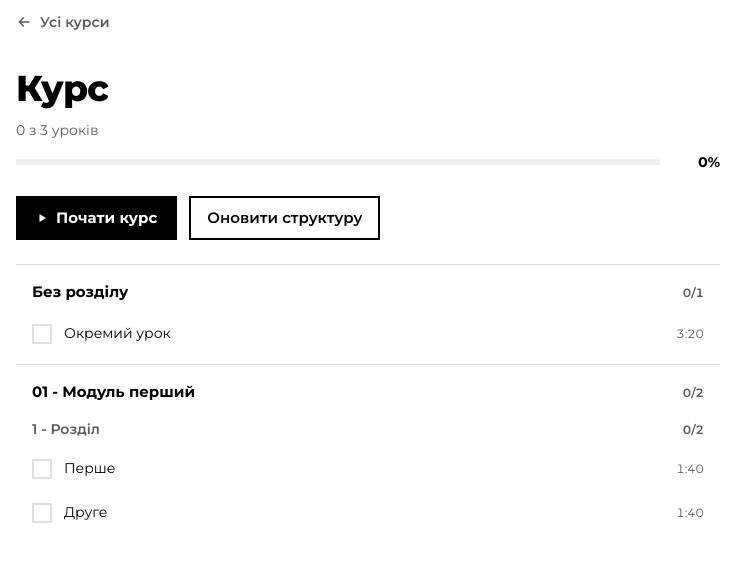
Scenario: CoursePage › показує причину, коли оновлення структури впало
Click the button "Оновити структуру".
click(285, 218)  # box [189,196,380,240]
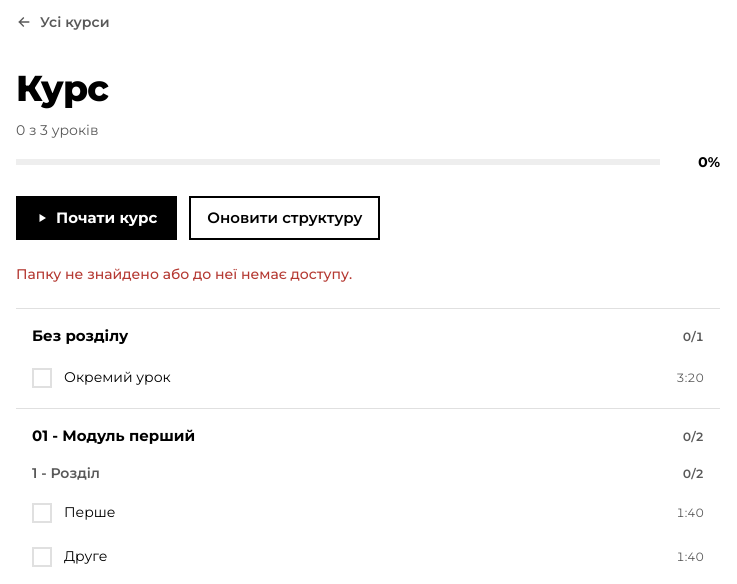
expect the message shows "немає доступу": met, box [16,265,352,283]
